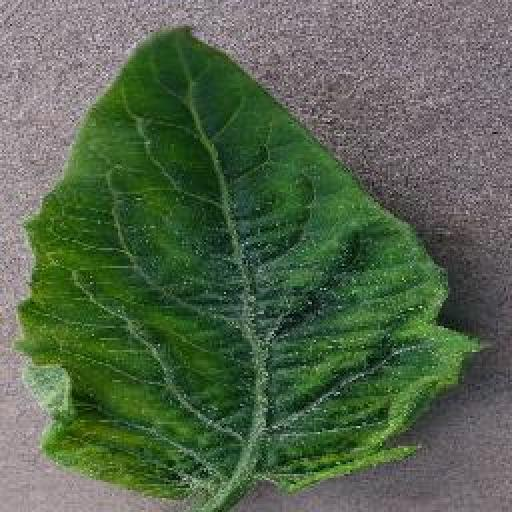Yellow Leaf Curl Virus: (15, 26, 491, 502)
